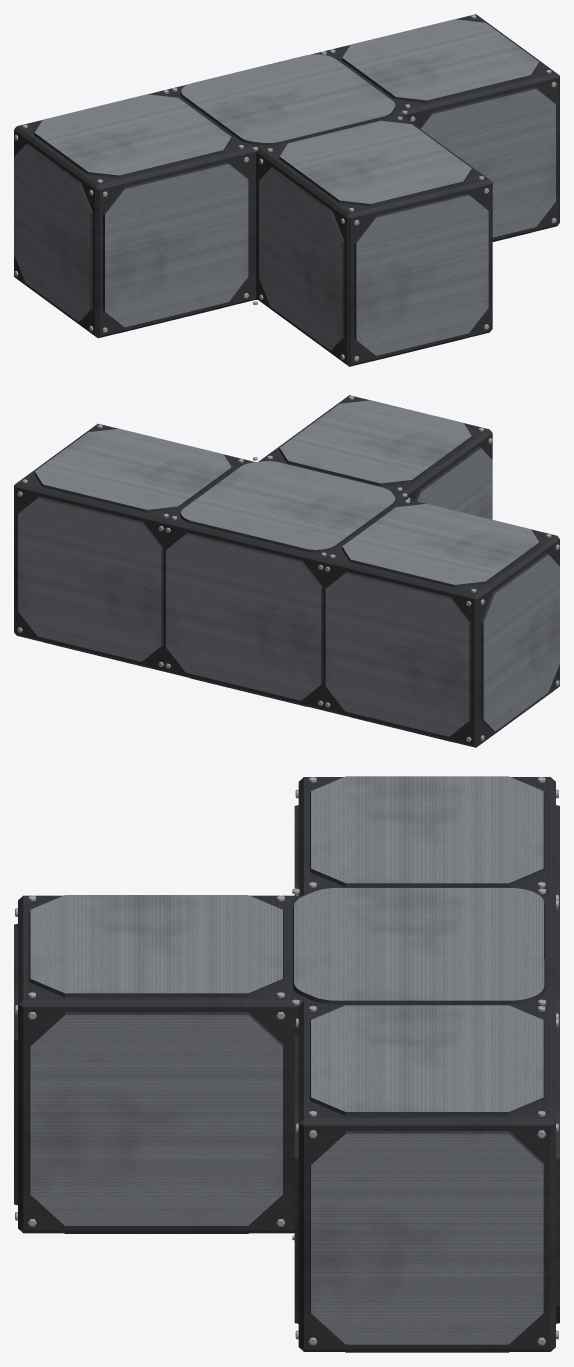
Rendered from R4B_Tee4.glb.
The picture shows the model from 3 angles, top to bottom: view 1: azimuth 30°, elevation 25°; view 2: azimuth 150°, elevation 25°; view 3: azimuth 270°, elevation 25°; orthographic projection. The views are drawn at different scales.
Visible parts, largest first — view 1: R4B_Tee4; view 2: R4B_Tee4; view 3: R4B_Tee4.
Boxes of the visible parts, box(x1,y1,x2,y2) form: R4B_Tee4: box(14, 14, 559, 366); R4B_Tee4: box(14, 395, 559, 747); R4B_Tee4: box(14, 776, 559, 1352).
Bounding box in the file's own units: 1.62 × 0.52 × 1.07.
Materials: 3 (3 with a texture image).
